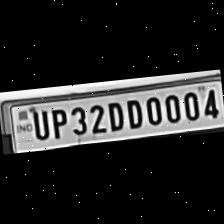0: (160, 90, 182, 124), (179, 88, 200, 122), (142, 93, 162, 127)
2: (86, 100, 108, 135)
3: (66, 103, 88, 136)
4: (198, 86, 220, 120)
D: (122, 96, 144, 130), (104, 99, 125, 134)
P: (47, 105, 69, 140)
U: (30, 106, 50, 140)
